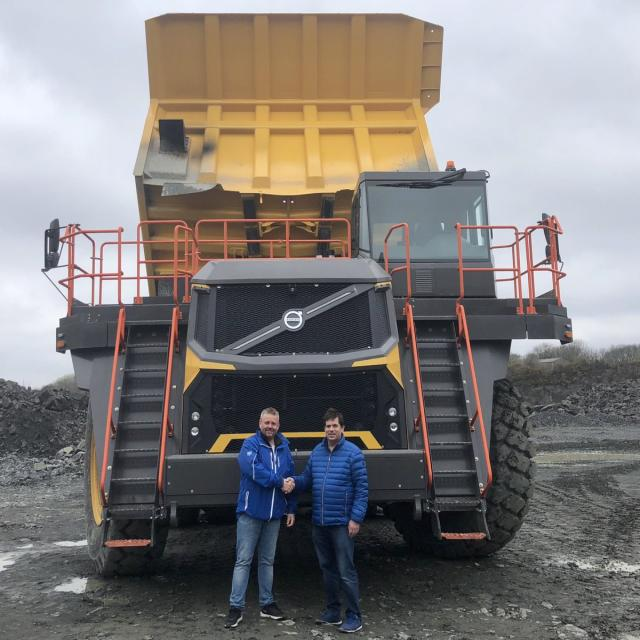dump_truck: (48, 2, 570, 583)
